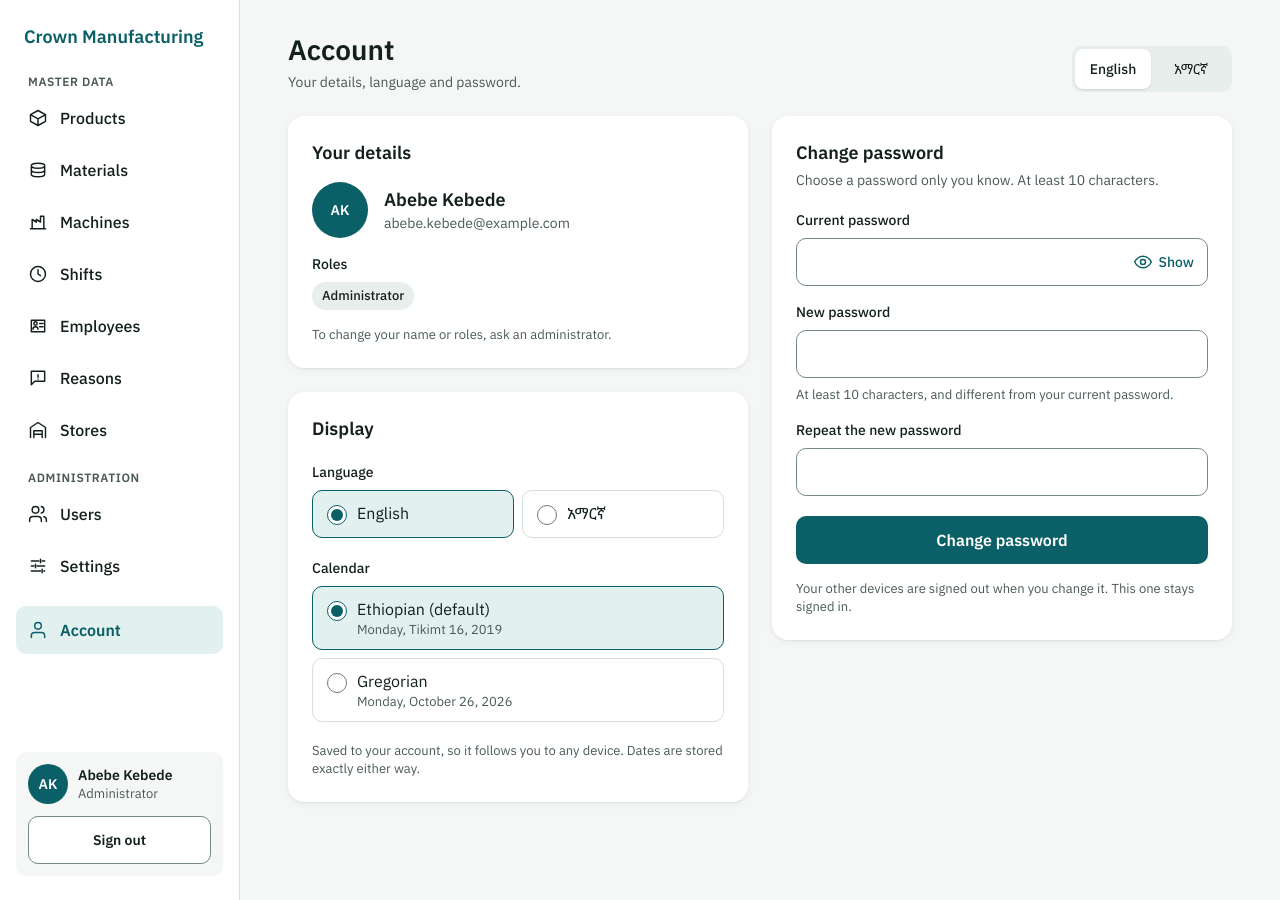
Test: Change password › success: sends the right body, says the other devices were signed out, clears the fields, stays on the page
The image size is (1280, 900).
Expected: the heading "Account" is shown, [288,31,394,68]
Type "current-password-1" into the password field labelled "Current password".
click(1002, 262); type("current-password-1")  # box [796,238,1208,286]
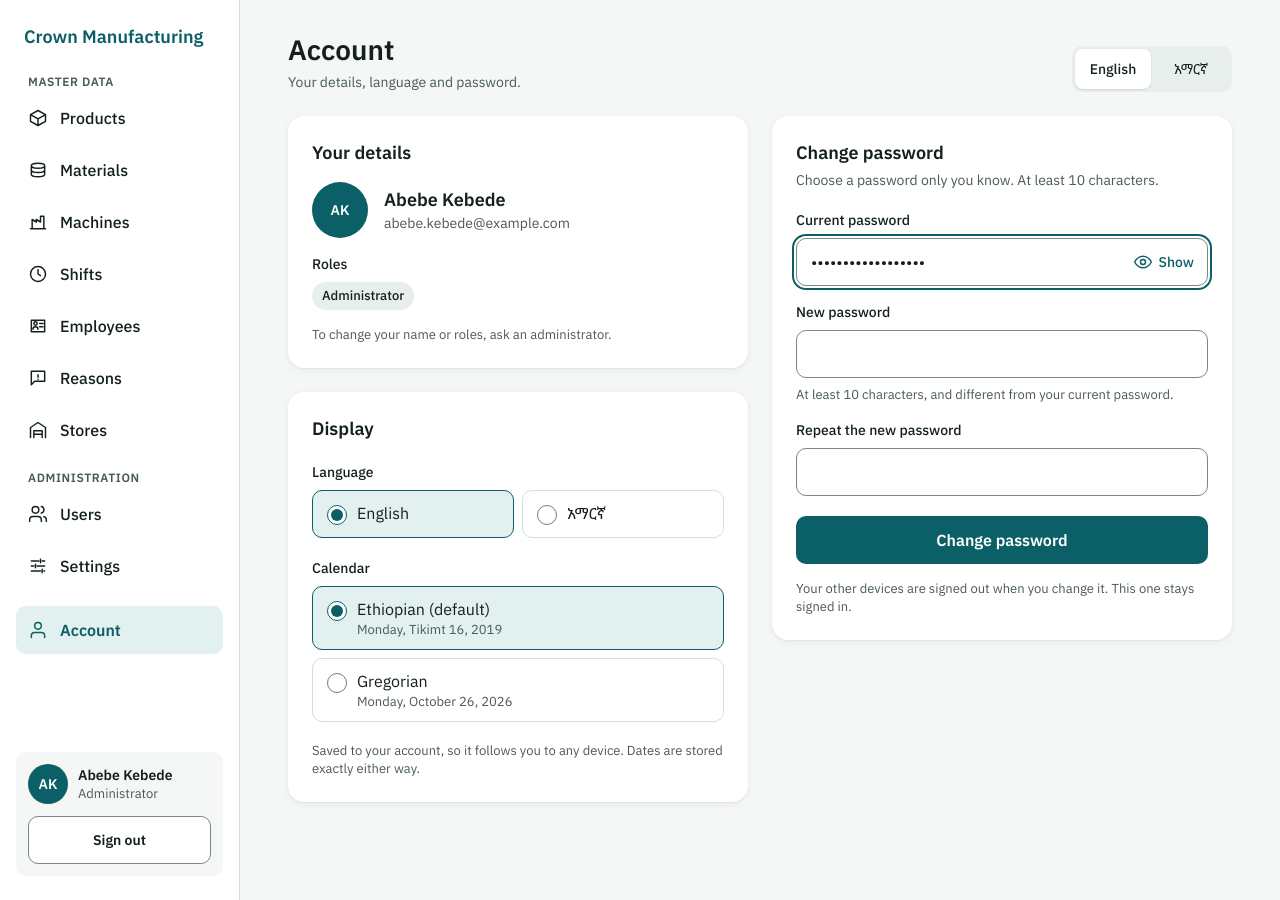
Type "a brand new password" into the password field labelled "New password".
click(1002, 354); type("a brand new password")  # box [796,330,1208,378]
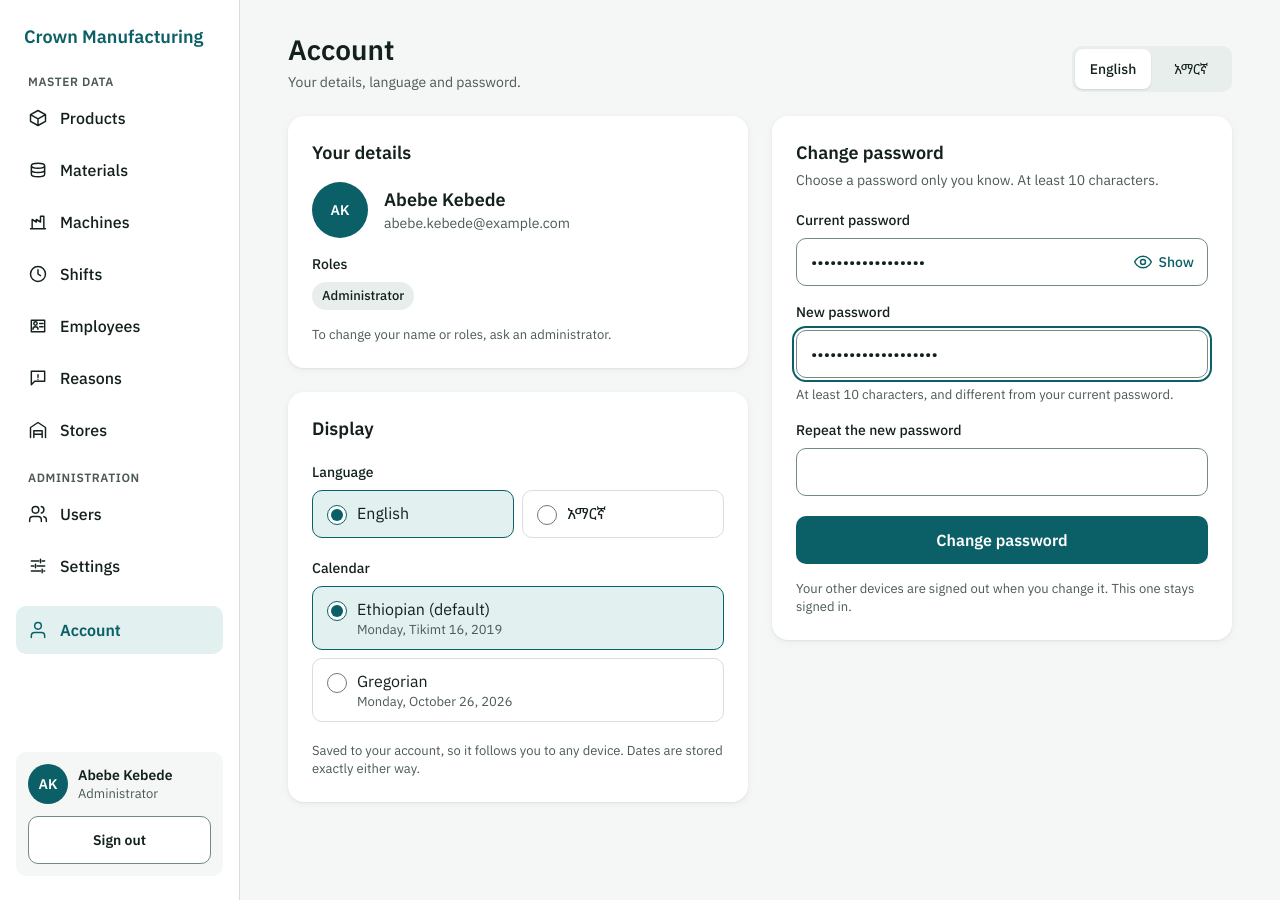
Type "a brand new password" into the password field labelled "Repeat the new password".
click(1002, 472); type("a brand new password")  # box [796,448,1208,496]
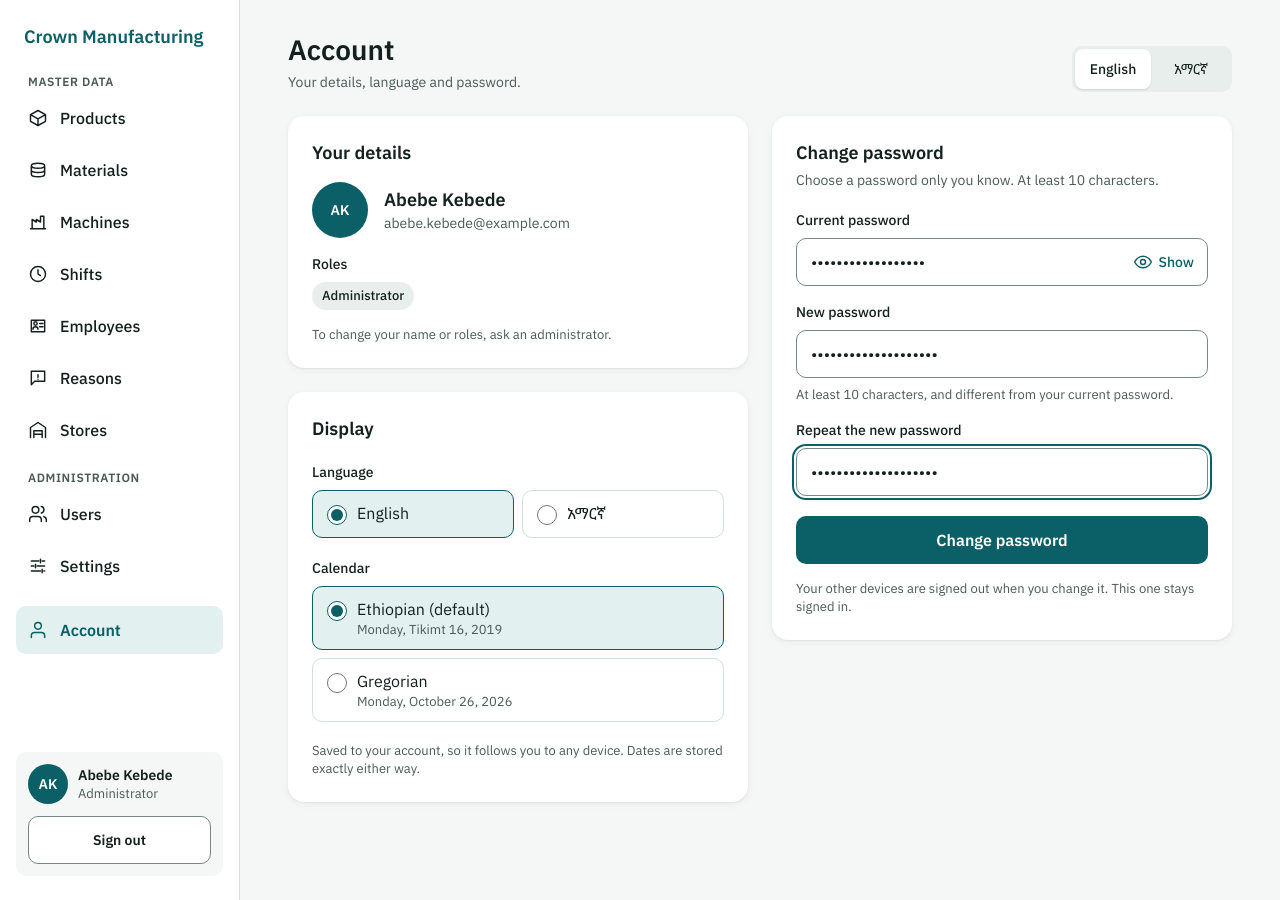
Click the button "Change password".
click(1002, 540)  # box [796,516,1208,564]
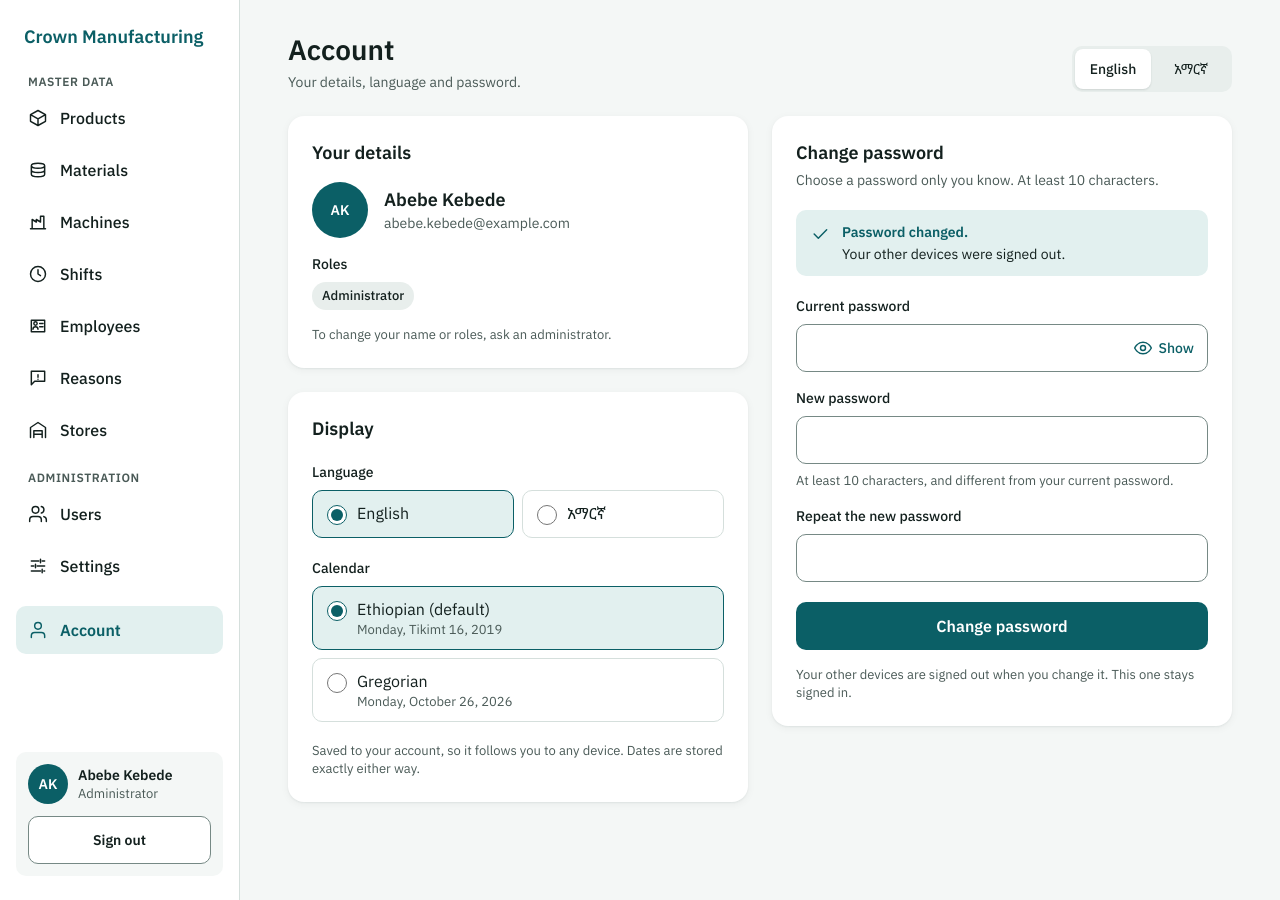
Now the message shows "Password changed.", box [842,223,968,241]
Now the message shows "Your other devices were signed out.", box [842,245,1065,263]
Now the password field labelled "Current password" is empty, box [796,324,1208,372]
